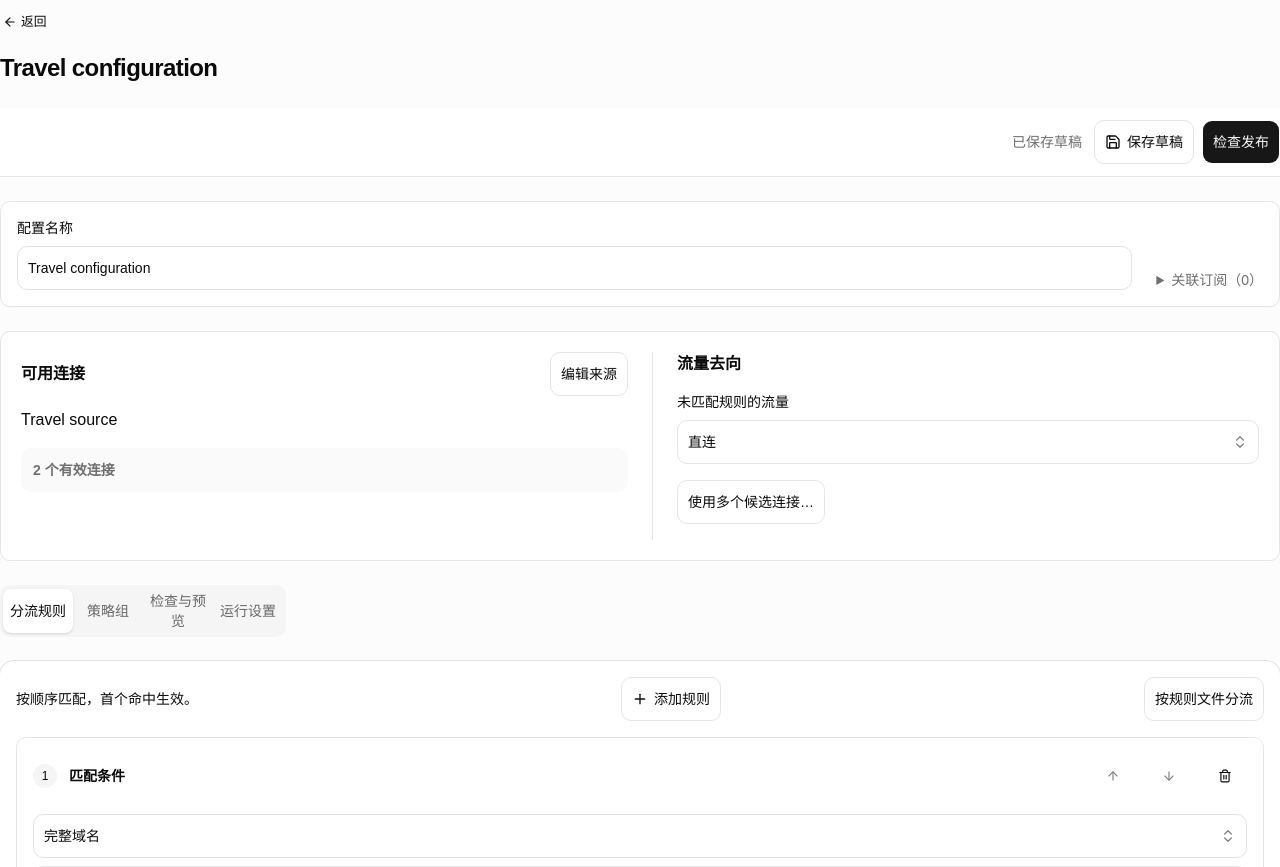
disposes a pending destructive confirmation when the owning editor closes
Click the tab "分流规则".
click(38, 611)  # box [3,589,73,633]
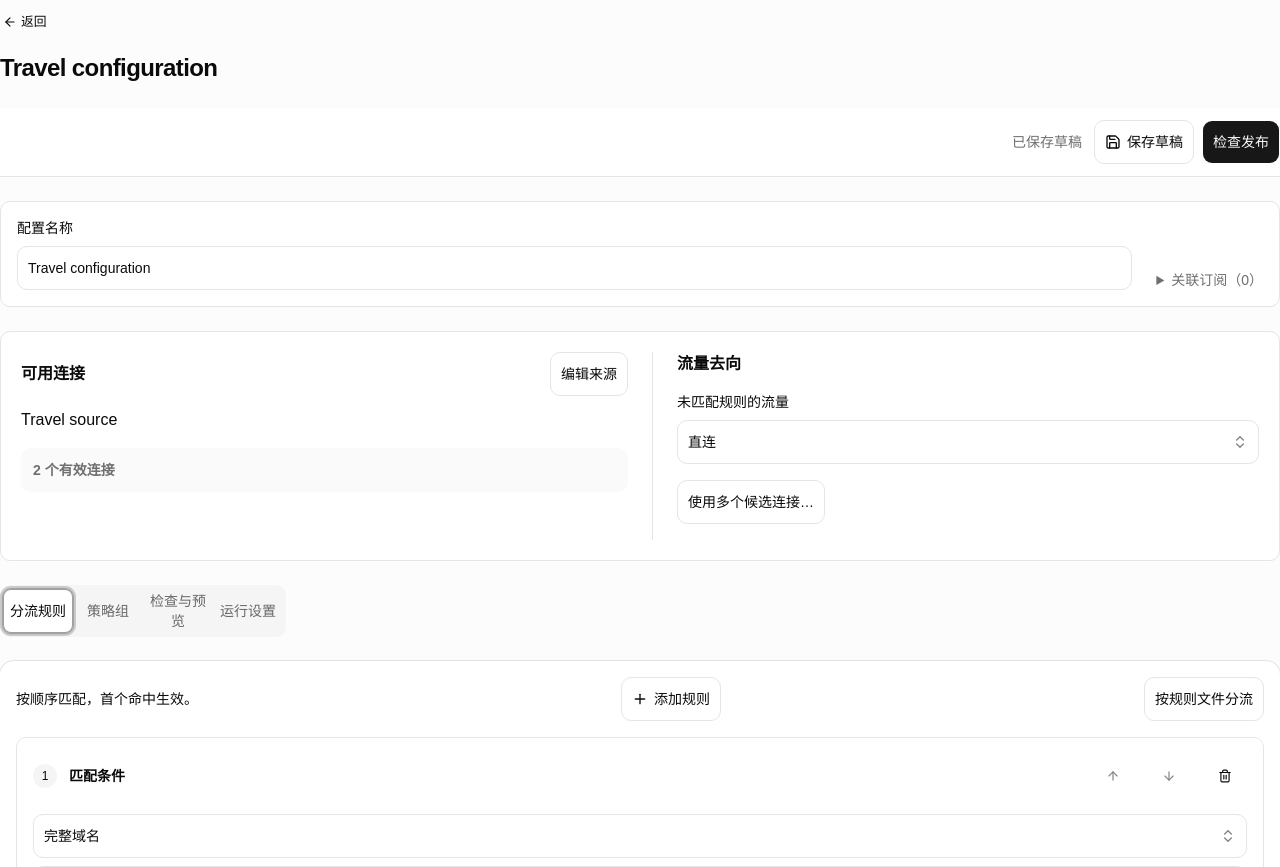
Click the dropdown named "规则匹配方式".
click(72, 836)  # box [33,814,1247,858]
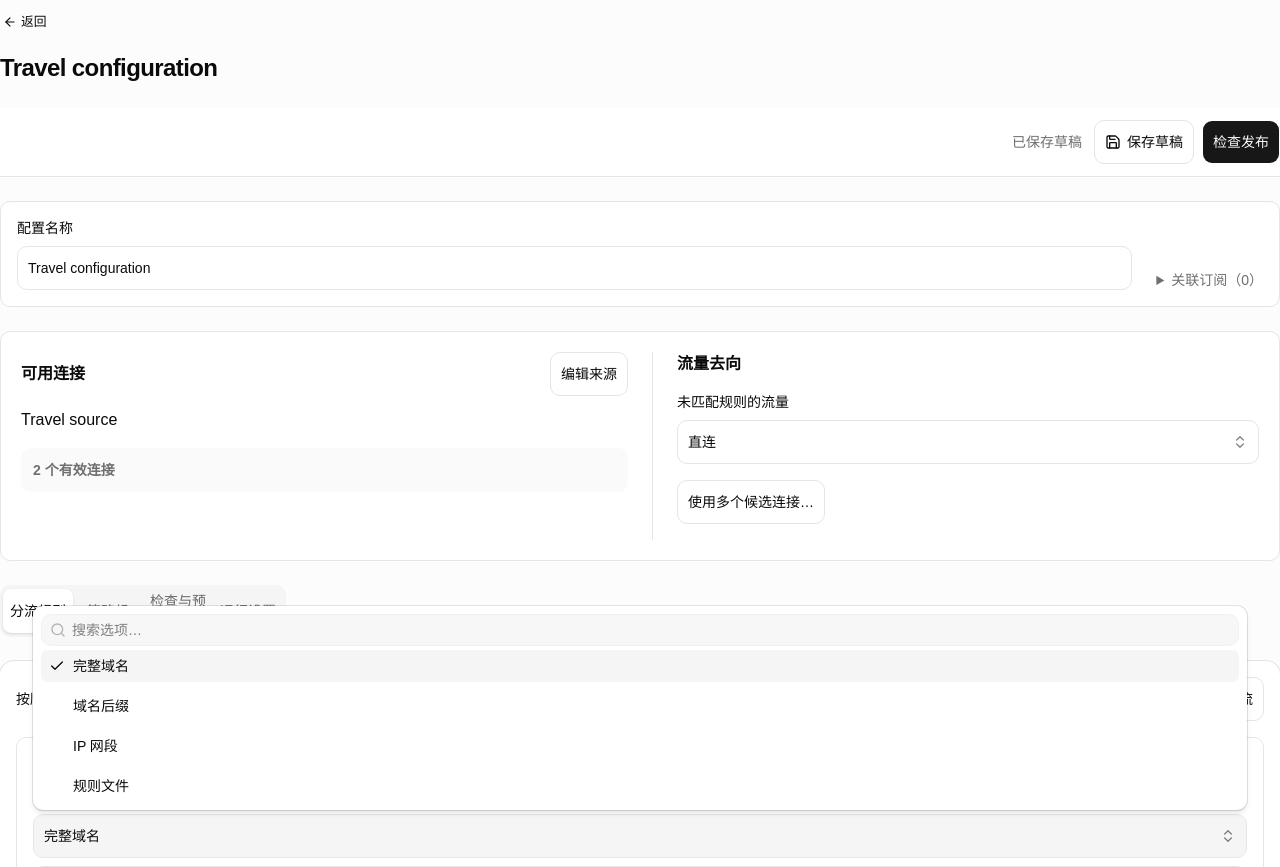
Click the option "IP 网段".
click(95, 746)  # box [73,738,118,754]
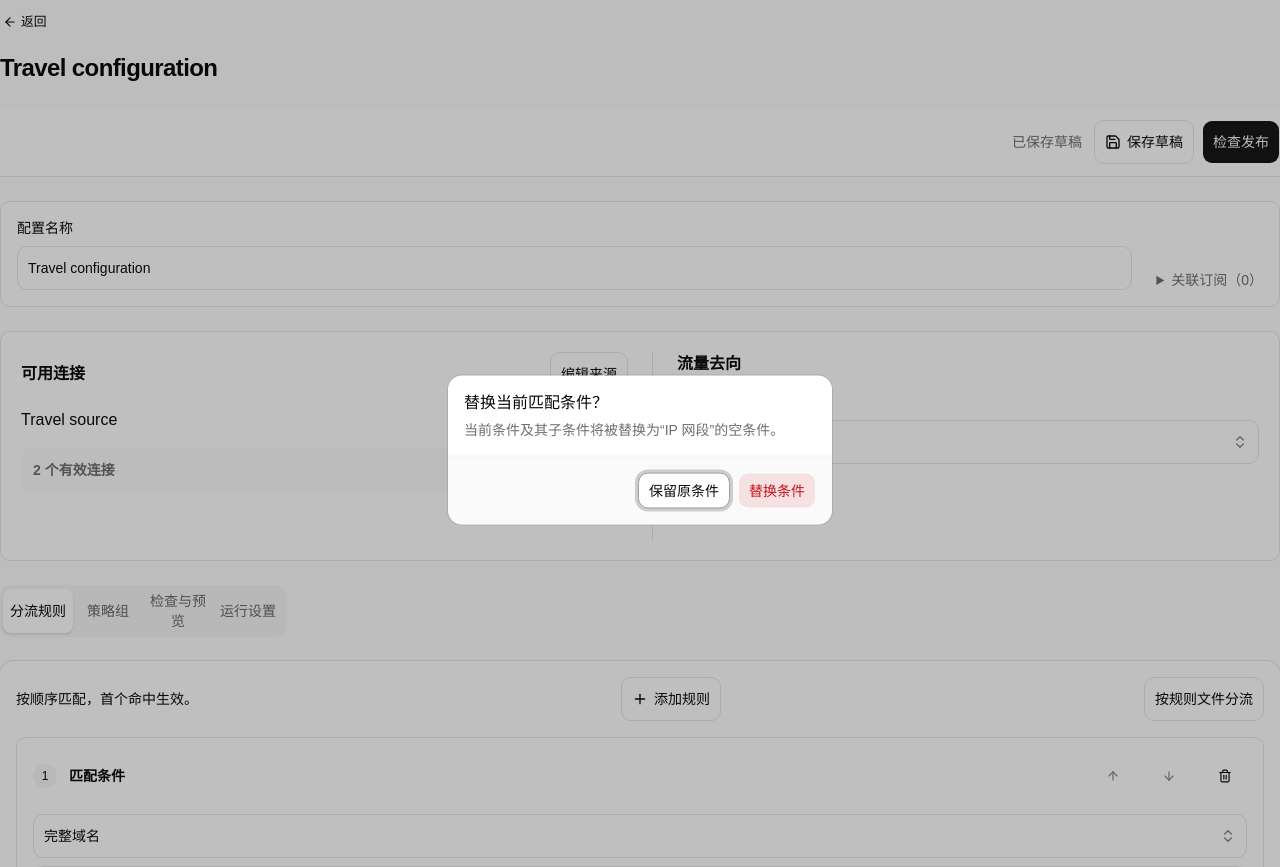
Expected: the dialog "替换当前匹配条件？" is shown, [448,376,832,524]
